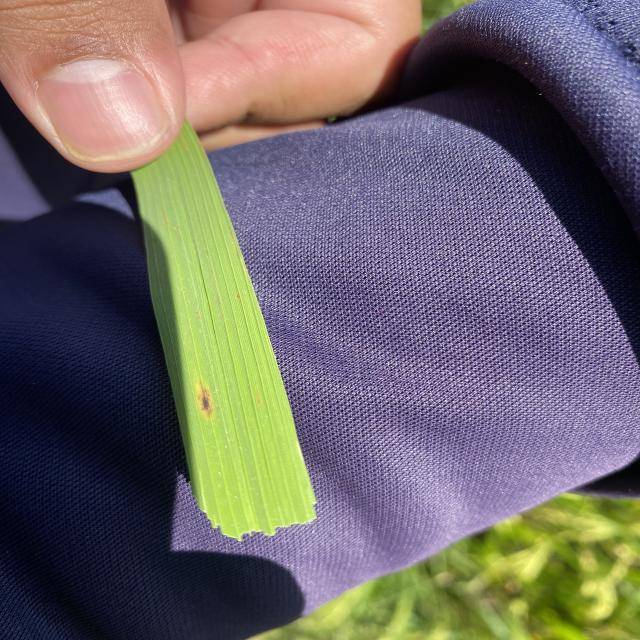Dom nau: (200, 391, 212, 413)
